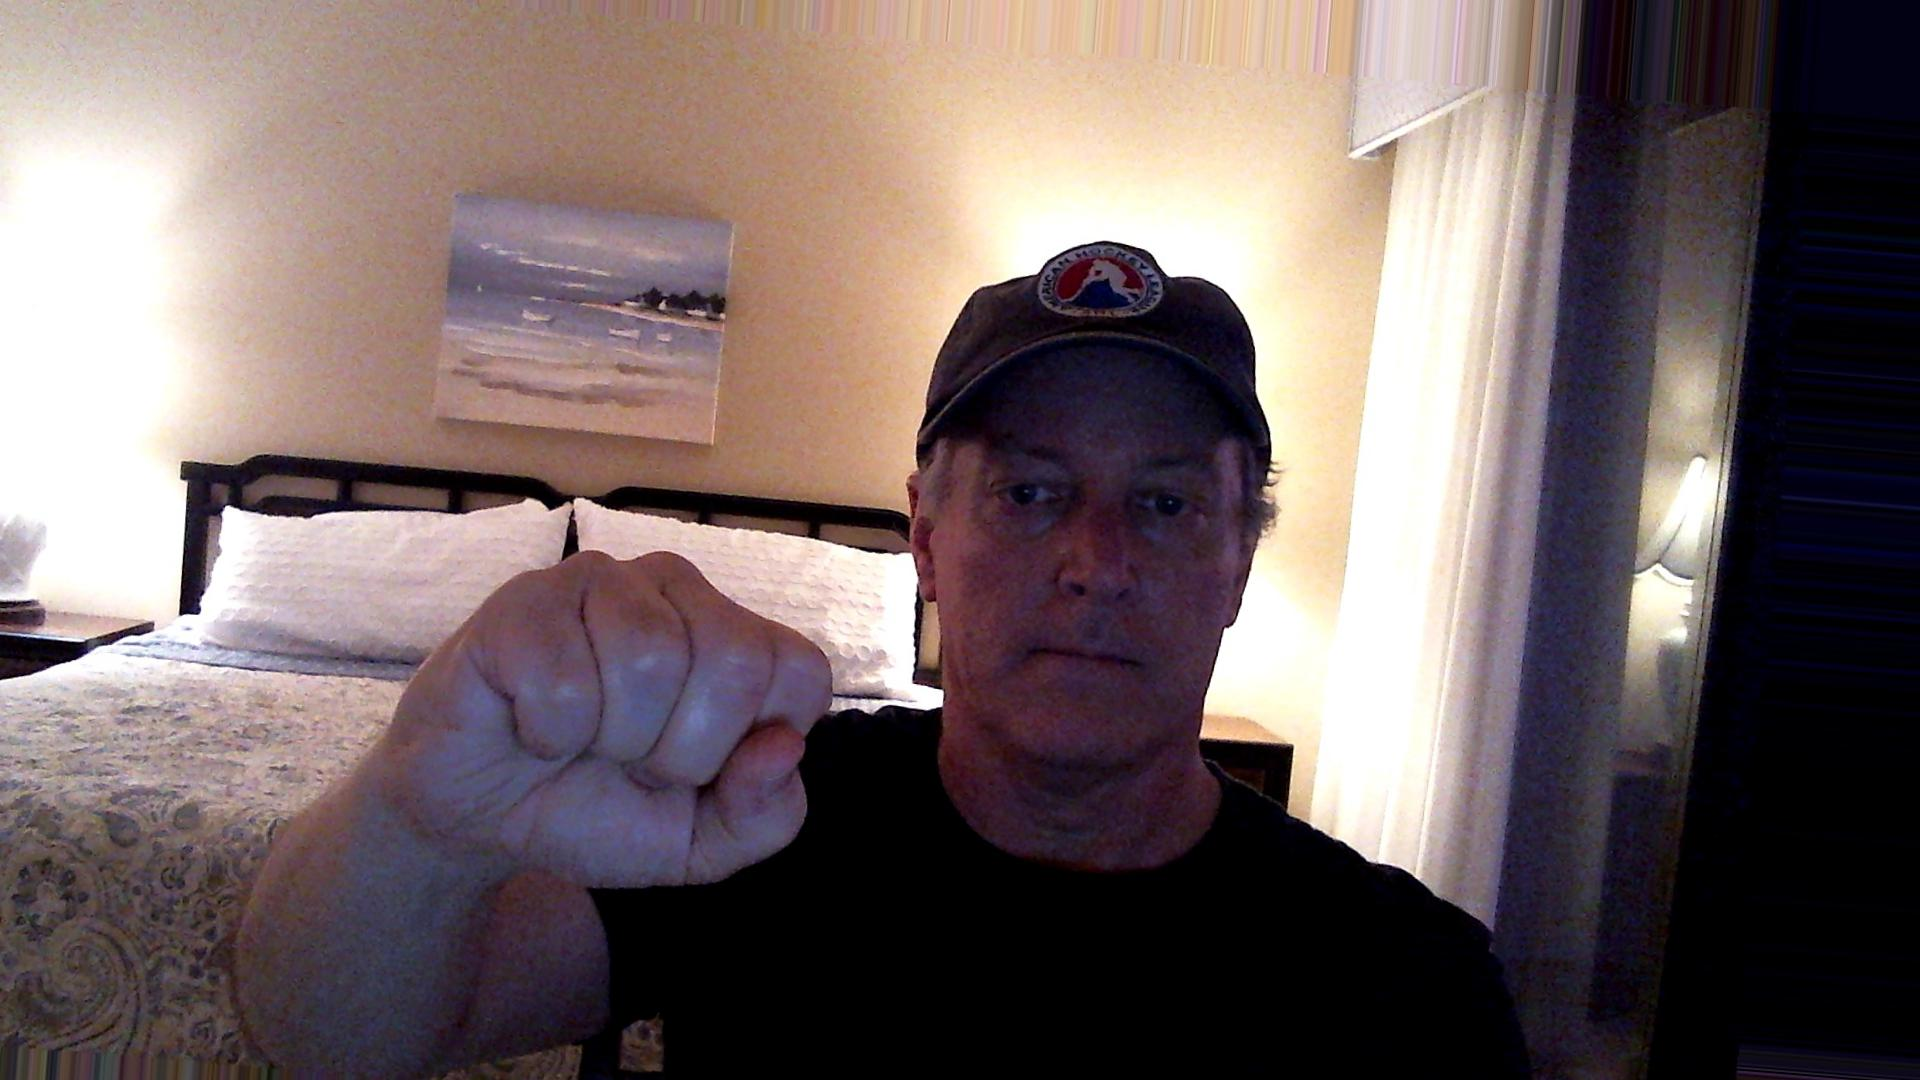Yes: (377, 512, 862, 926)
